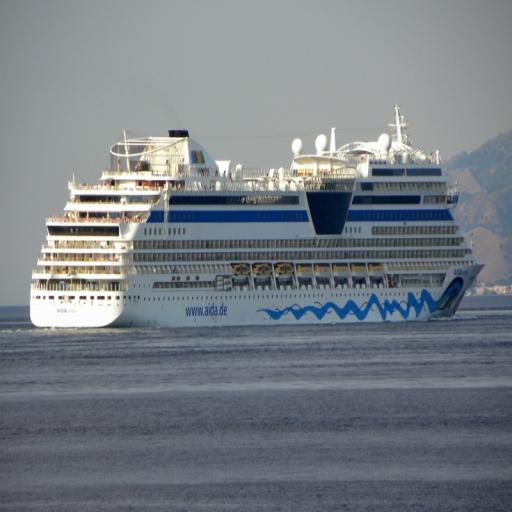cruises: (26, 103, 489, 334)
